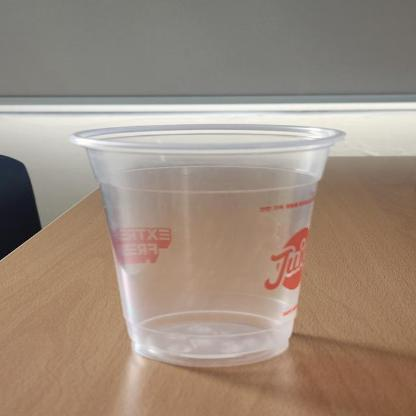Plastic Cup: (67, 122, 349, 370)
